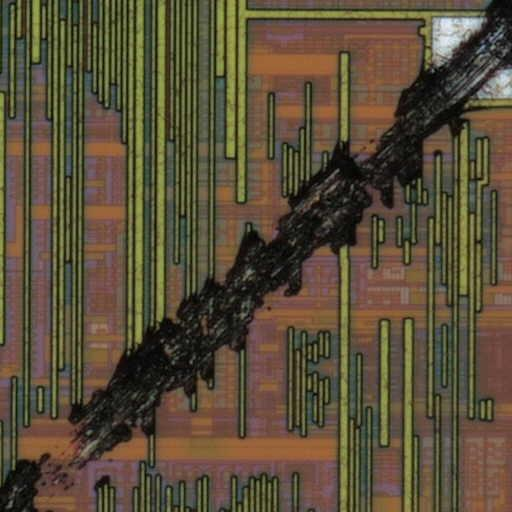SCRATCH: (2, 1, 512, 512)
